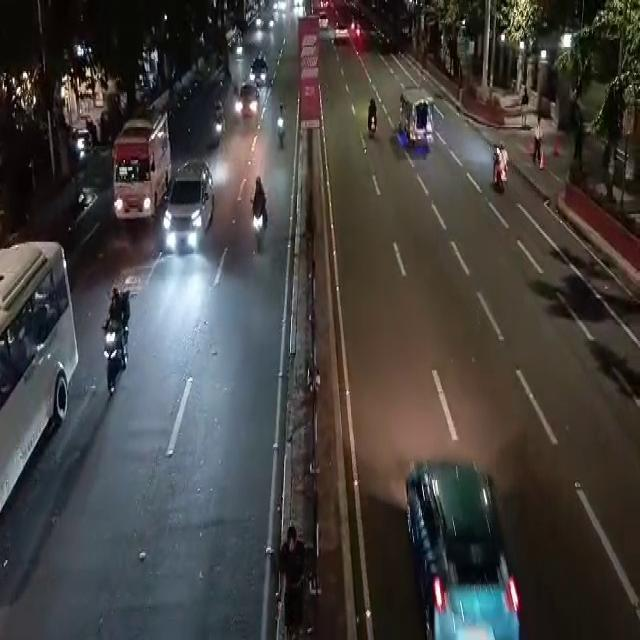bus: (0, 237, 75, 524), (116, 90, 163, 226)
car: (411, 464, 518, 634), (158, 157, 208, 258), (234, 90, 258, 118), (248, 59, 268, 84)
jeepney: (398, 83, 439, 162)
motorcycle: (105, 290, 136, 386), (248, 174, 275, 259), (496, 140, 514, 202), (364, 88, 382, 134), (278, 99, 291, 155), (214, 101, 228, 147)
